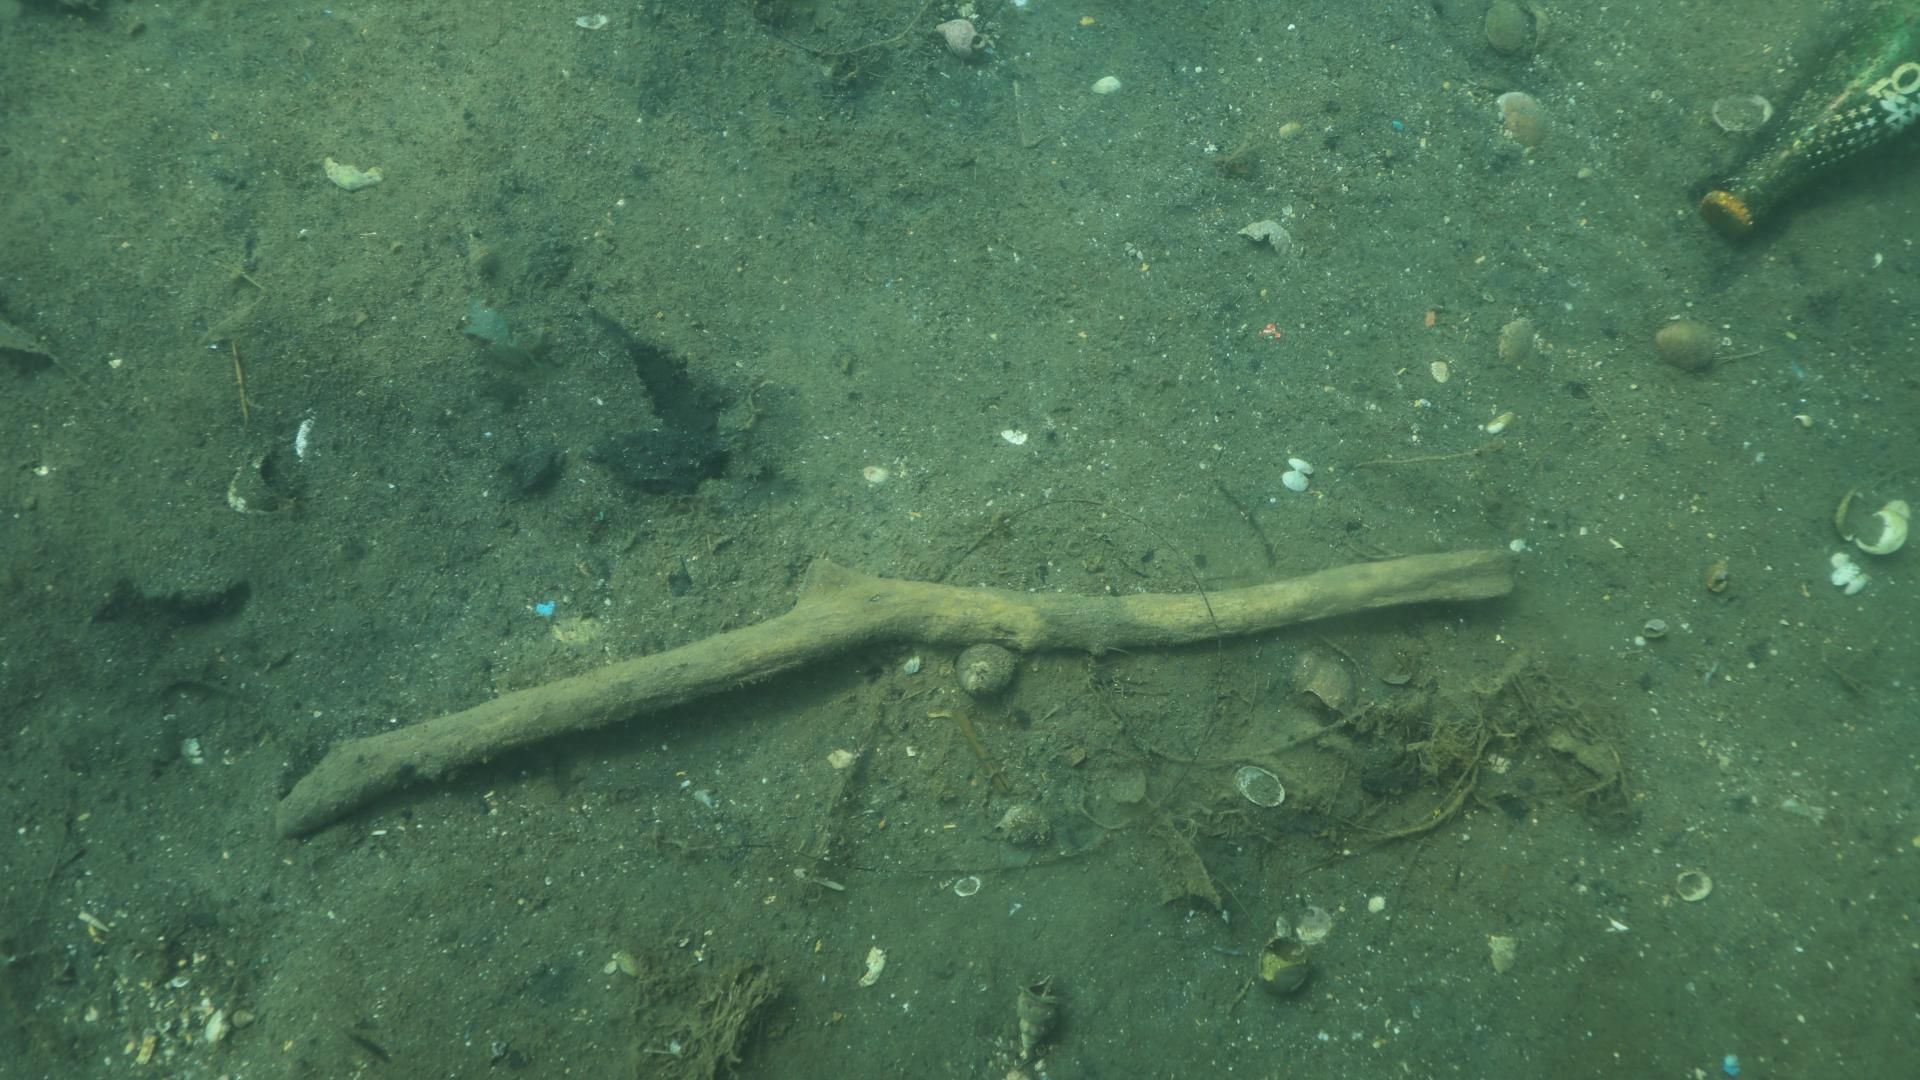wood: (273, 546, 1518, 839)
